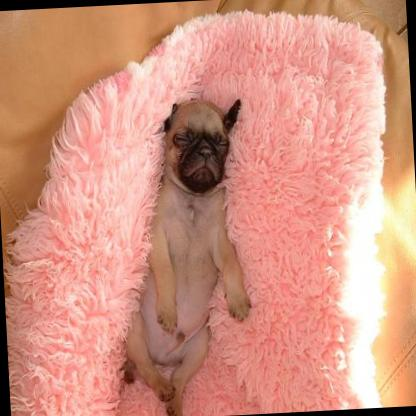pug: (103, 94, 257, 416)
